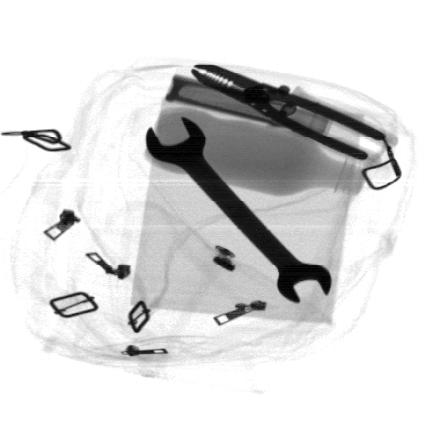Pliers: (187, 61, 400, 168)
Wrench: (143, 115, 333, 303)
